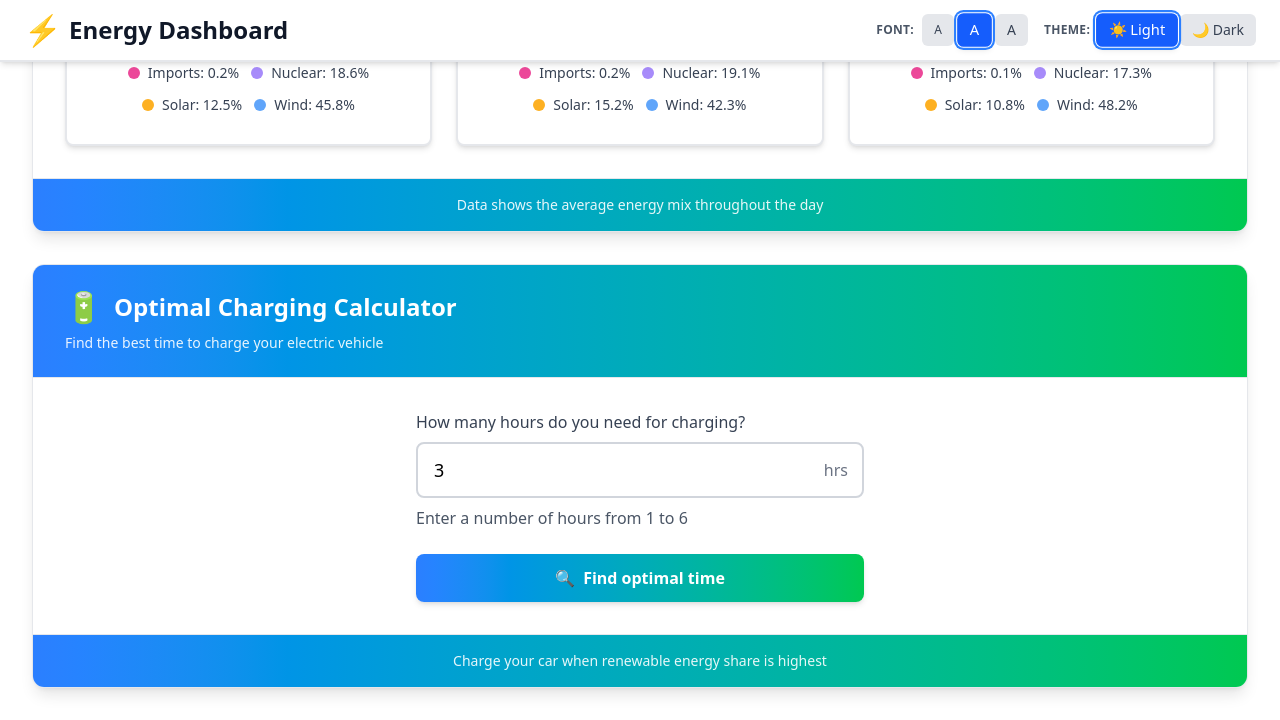
Scenario: Optimal Charging Calculator › Form validation › should handle invalid input - empty field
(page scrolled)
Clear the number field with id "charging-hours" at [640, 470], box [416,442,864,498]
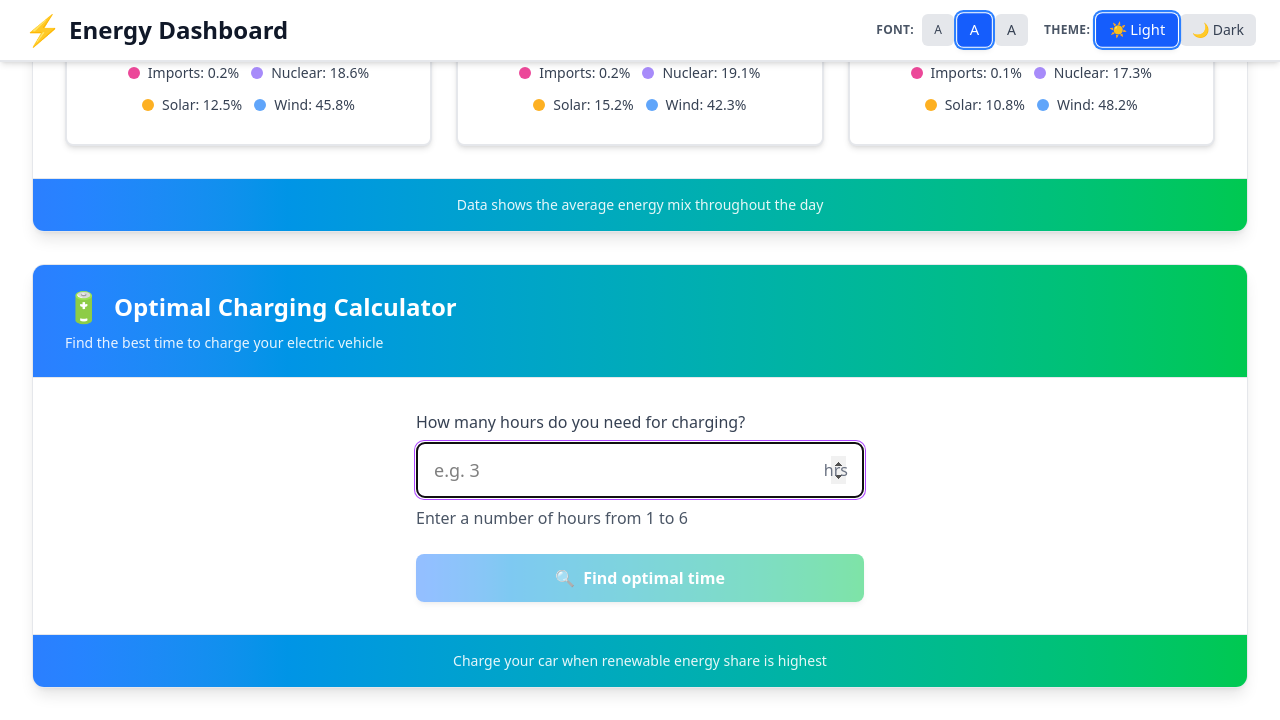
Check: the button "🔍 Find optimal time" is disabled, box [416,554,864,602]
